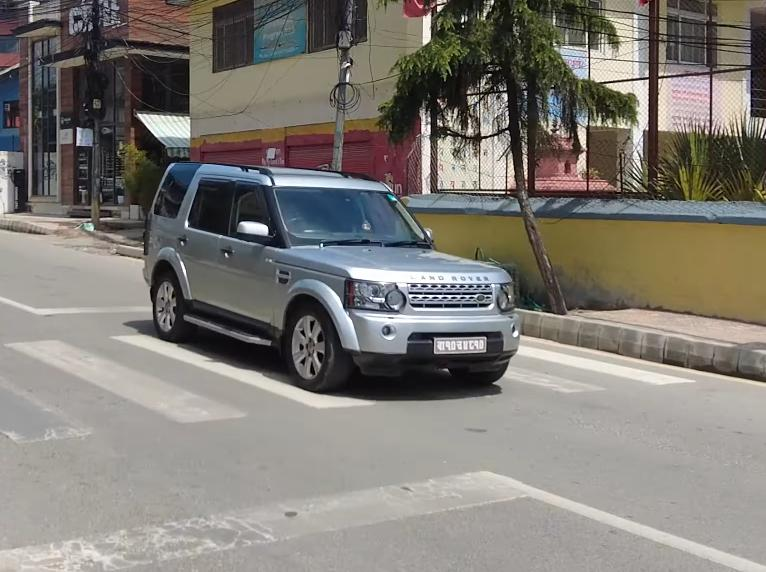SUV: (139, 153, 522, 391)
